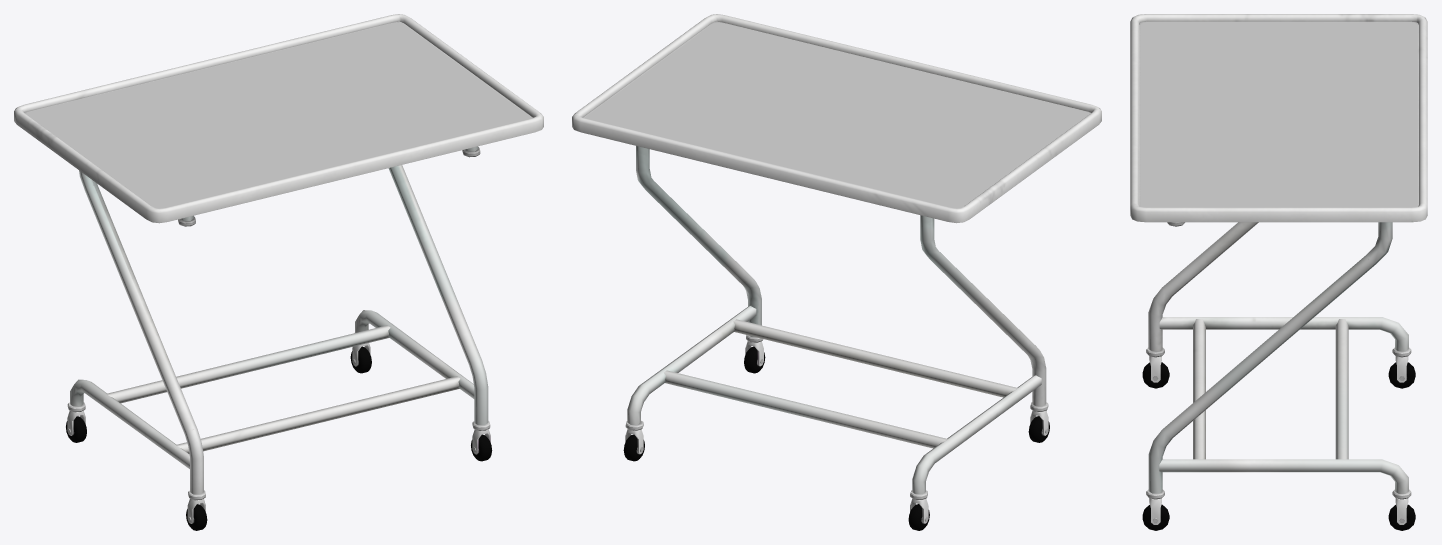
Rendered from HospitalTable.FBX.
3 views of the same model, side by side, from view 1: azimuth 30°, elevation 25°; view 2: azimuth 150°, elevation 25°; view 3: azimuth 270°, elevation 25° (orthographic). The views are drawn at different scales.
Parts seen in each view (by area): view 1: MobileTable2; view 2: MobileTable2; view 3: MobileTable2, MobileTable2_wheel4, MobileTable2_wheel1, MobileTable2_wheel3, MobileTable2_wheel2.
Part boxes in pixels (x1,y1,x2,y2): MobileTable2: [14, 14, 543, 500]; MobileTable2: [572, 14, 1101, 499]; MobileTable2: [1130, 14, 1427, 499]; MobileTable2_wheel4: [1388, 498, 1415, 530]; MobileTable2_wheel1: [1388, 356, 1415, 388]; MobileTable2_wheel3: [1142, 498, 1169, 530]; MobileTable2_wheel2: [1142, 356, 1169, 388].
Bounding box in the file's own units: 123 × 101 × 78.34.
